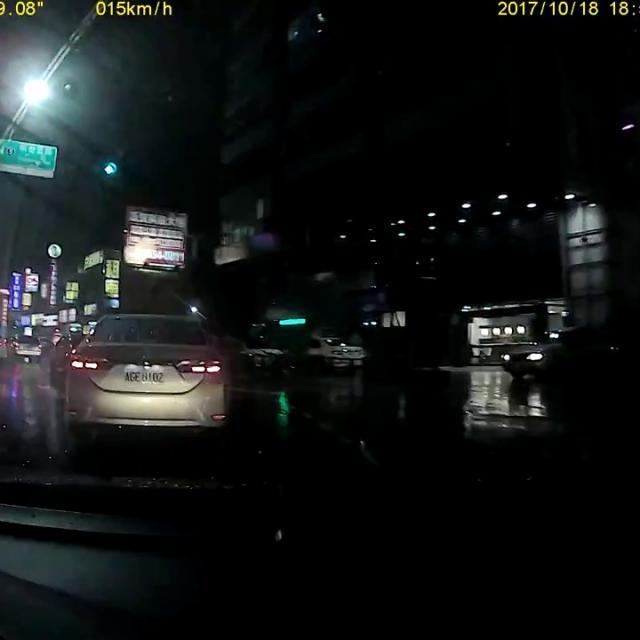Car: (62, 310, 232, 440), (501, 323, 613, 385), (302, 329, 367, 376), (231, 323, 285, 375), (7, 331, 44, 361)
